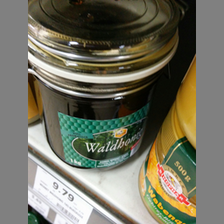honey: (27, 1, 180, 170)
